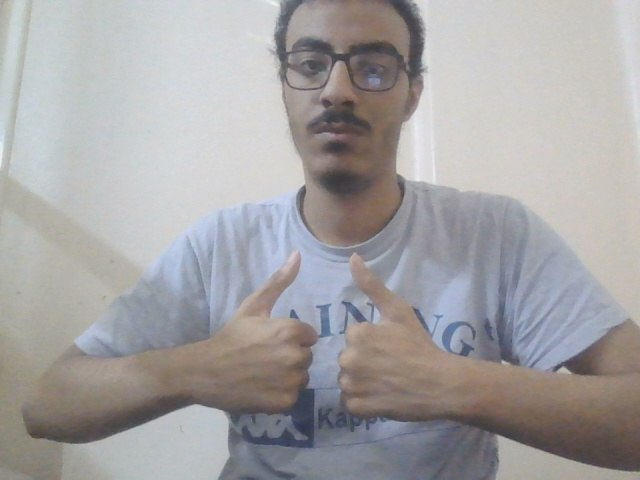Help: (204, 244, 451, 443)
